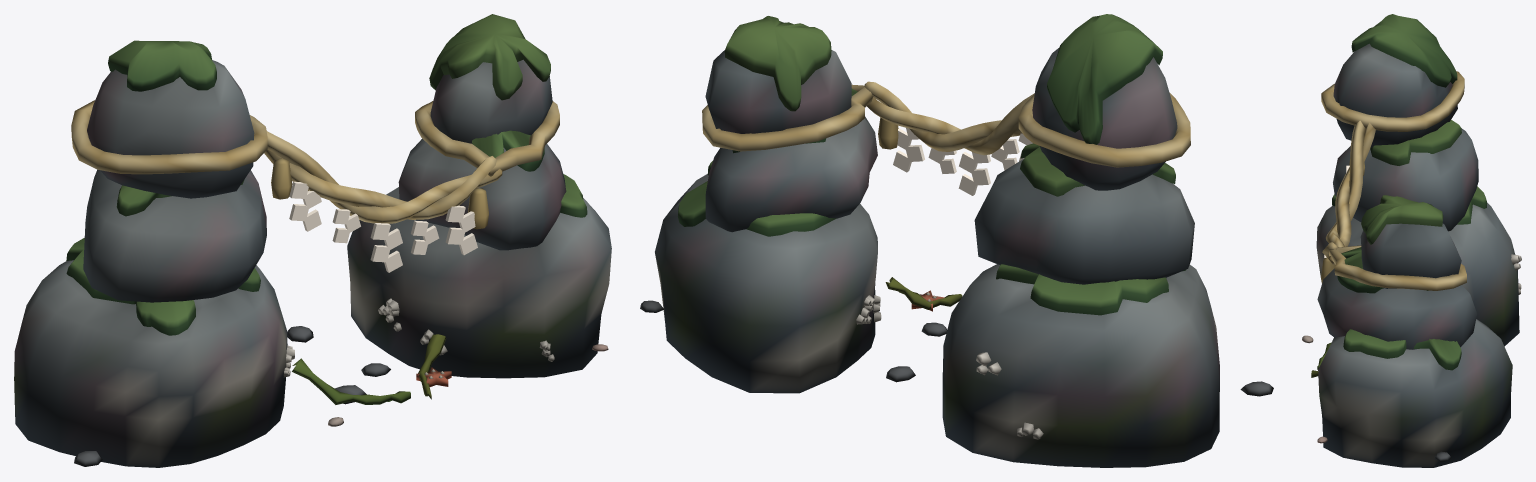
File: dg-tidepool-weddedPair.glb
3 views of the same model, side by side, from view 1: azimuth 30°, elevation 25°; view 2: azimuth 150°, elevation 25°; view 3: azimuth 270°, elevation 25° (orthographic). The views are drawn at different scales.
Visible parts, largest first — view 1: body, cloth; view 2: body, cloth; view 3: body.
Boxes of the visible parts, left/top/right/bottom form: body: left=14, top=14, right=611, bottom=467; cloth: left=289, top=181, right=477, bottom=272; body: left=640, top=14, right=1273, bottom=467; cloth: left=893, top=128, right=1032, bottom=195; body: left=1302, top=14, right=1521, bottom=467.
Size of the model in its own units: 4.19 by 2.7 by 1.85.
